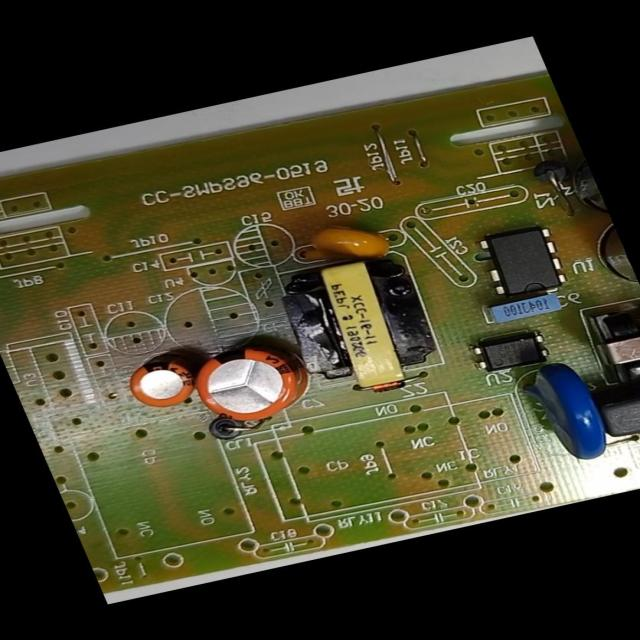Cap1: (177, 328, 325, 439)
Cap2: (107, 339, 220, 422)
Cap3: (580, 213, 640, 305)
Cap4: (546, 140, 610, 226)
MOSFET: (461, 216, 582, 308)
Mov: (505, 352, 624, 472)
Transformer: (262, 243, 455, 413), (574, 297, 639, 400)
